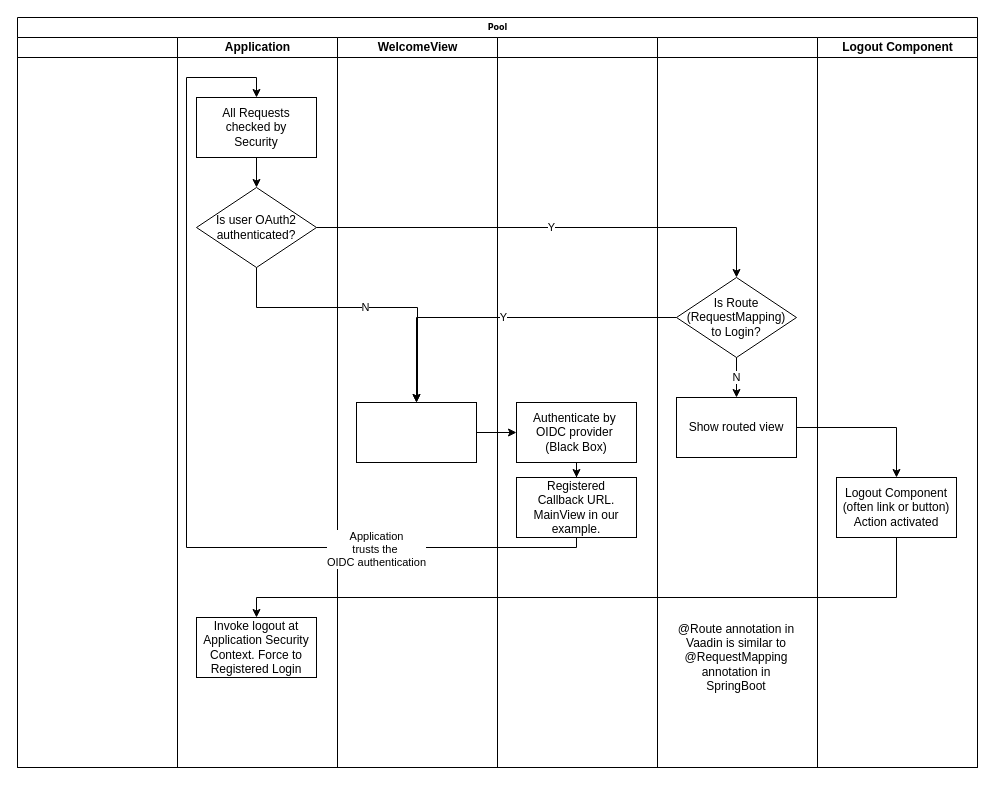
Image size: 995x785. Some labels were removed from this diagram. Here are the shapes that lost their labels. From the top down, the centre of each, then its label:
(x=577, y=402): OpenID Connect
(x=737, y=402): All Other View
(x=416, y=432): Show WelcomeView
